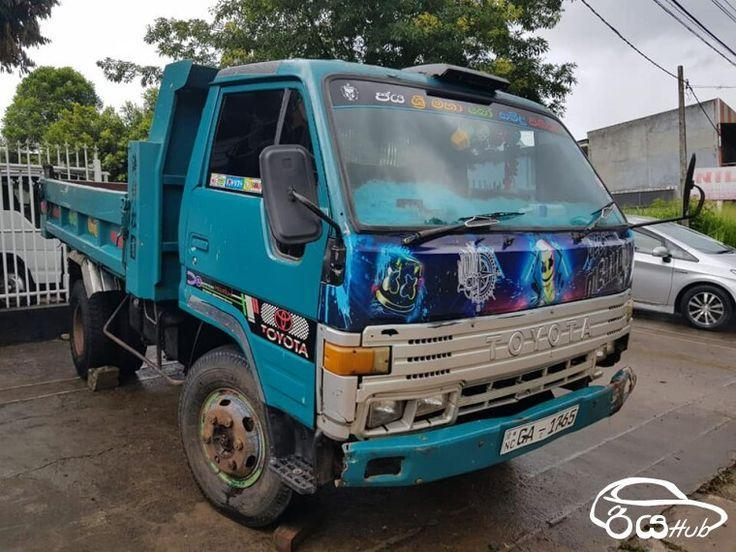car: (627, 214, 736, 332)
truck: (39, 59, 634, 530)
